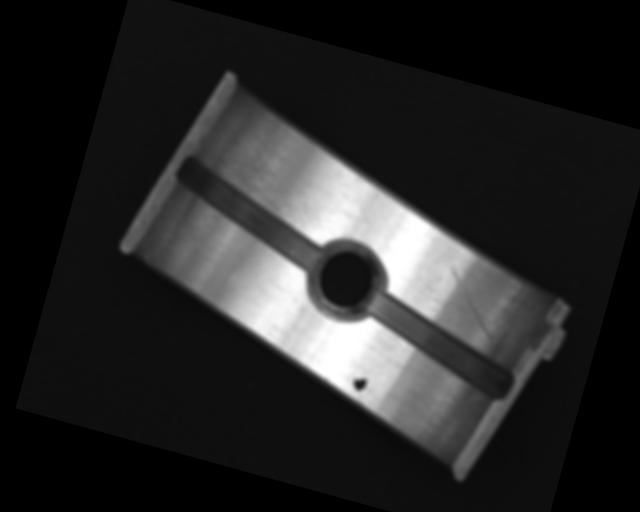blot: (351, 370, 370, 393)
gap: (162, 153, 338, 275), (355, 287, 529, 402)
hole: (301, 233, 392, 330)
nick: (434, 263, 512, 343)
scratch: (192, 120, 342, 235)
